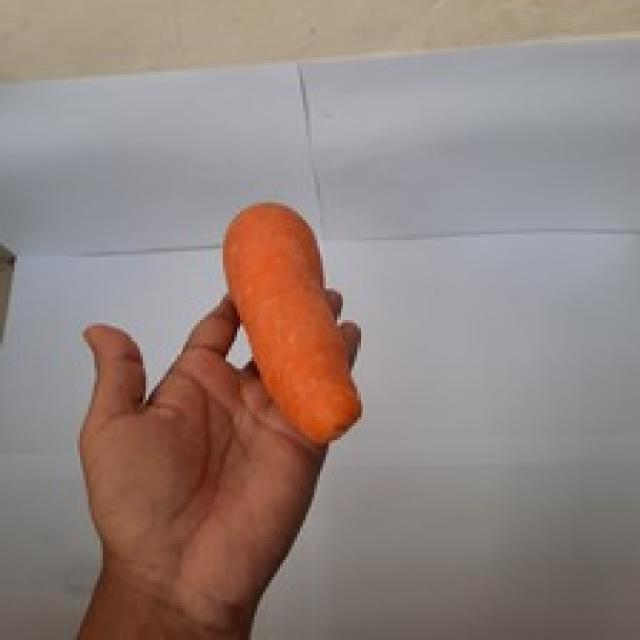carrot: (224, 202, 363, 445)
